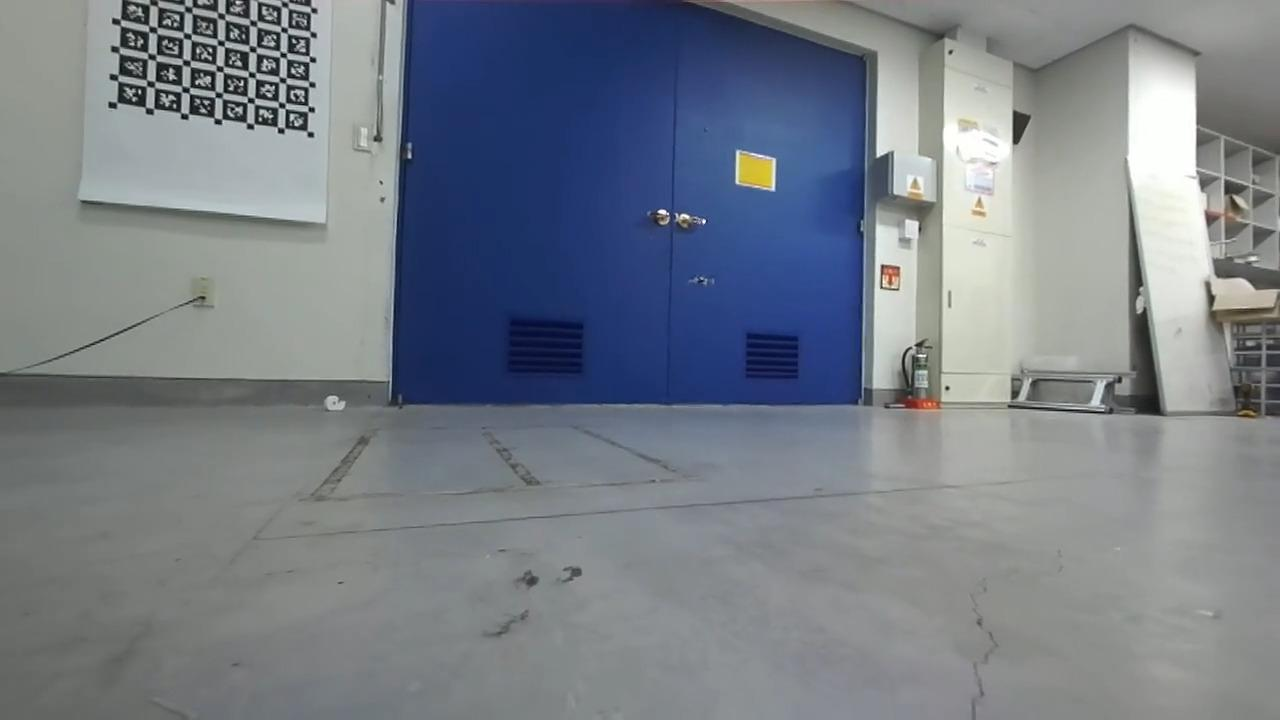crazyflie: (677, 267, 725, 294)
